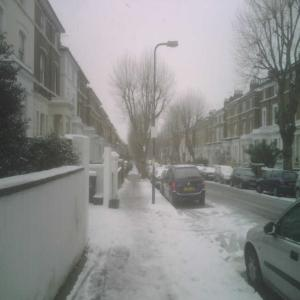Vehicle-registration-plate: (289, 182, 298, 187), (184, 189, 196, 192)
